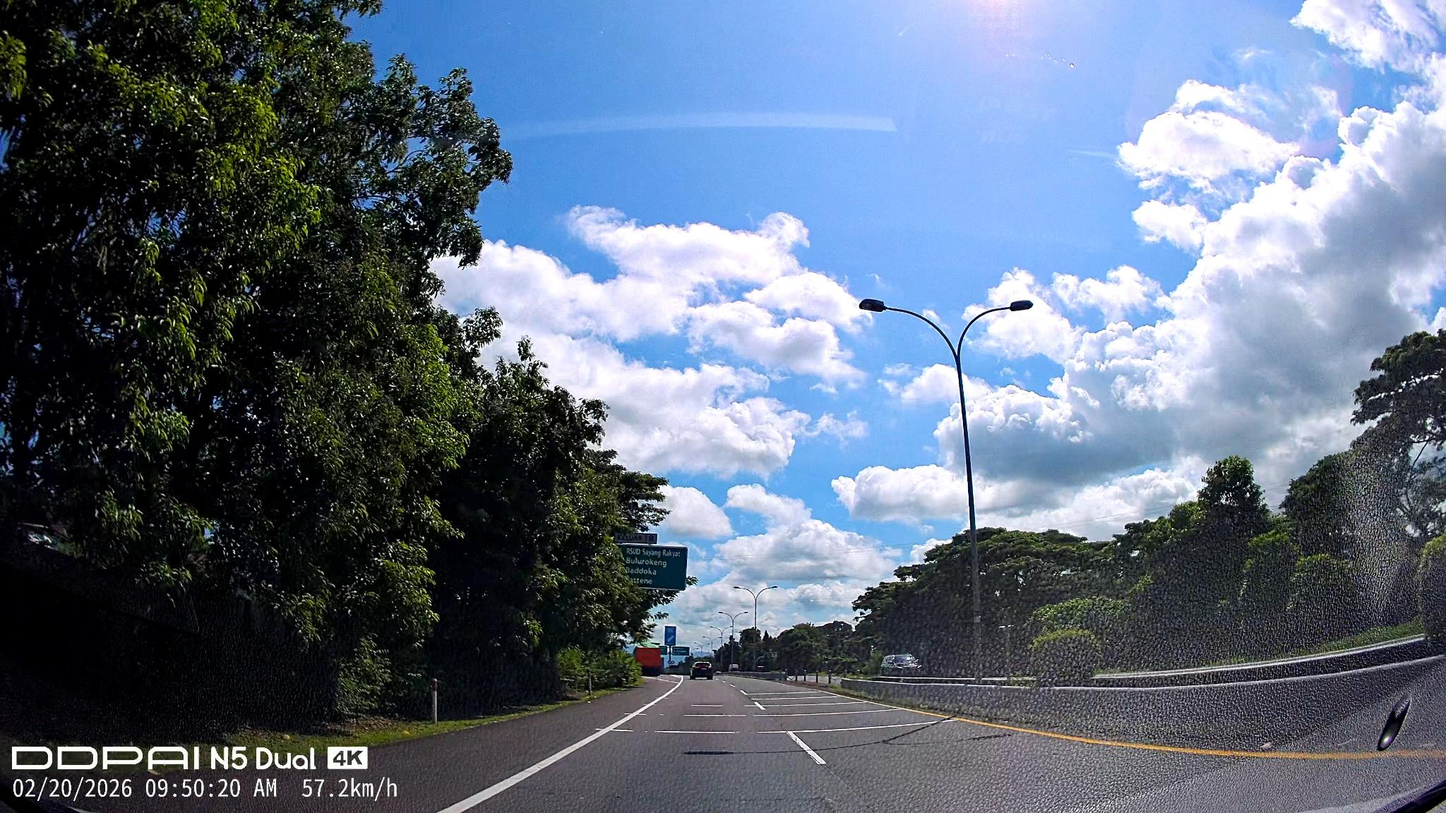rambu_teks: (624, 543, 688, 591)
